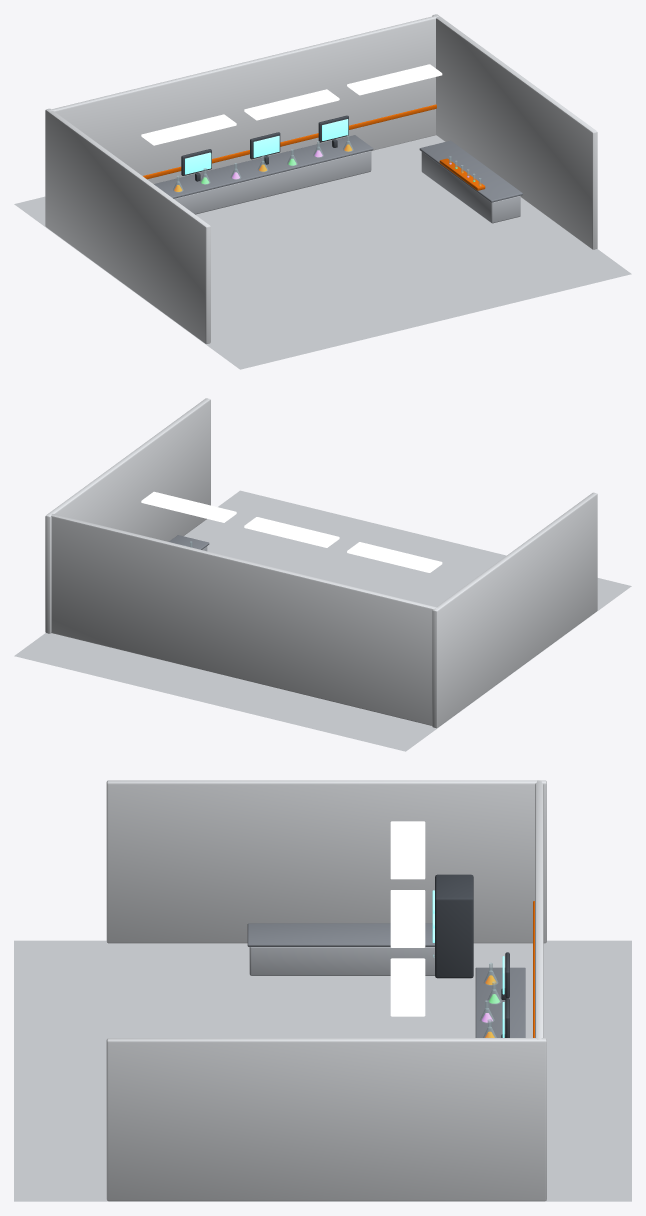
Rendered from loc_lab.glb.
3 renders of one model, top to bottom at view 1: azimuth 30°, elevation 25°; view 2: azimuth 150°, elevation 25°; view 3: azimuth 270°, elevation 25°, orthographic. The views are drawn at different scales.
Parts seen in each view (by area): view 1: La_Floor, La_WallBack, La_WallSideL, La_WallSideR, La_BenchB_Body, La_BenchB_Top, La_BenchR_Body, La_BenchR_Top, La_Light0, La_Light1, La_Light2, La_Stripe; view 2: La_WallBack, La_Floor, La_WallSideL, La_WallSideR, La_Light1, La_Light0, La_Light2; view 3: La_Floor, La_WallSideR, La_WallSideL, La_BenchL_Body, La_RackBody, La_BenchL_Top, La_BenchB_Top, La_WallBack, La_Light0, La_Light2, La_Light1.
Boxes of the visible parts, x1,y1,x2,y2 form: La_Floor: (14,135,631,369); La_WallBack: (48,15,438,183); La_WallSideL: (45,108,210,343); La_WallSideR: (432,14,597,249); La_BenchB_Body: (174,151,371,214); La_BenchB_Top: (154,135,373,198); La_BenchR_Body: (421,152,520,223); La_BenchR_Top: (419,140,522,202); La_Light0: (141,114,236,145); La_Light1: (244,89,339,120); La_Light2: (347,64,442,95); La_Stripe: (143,104,436,179); La_WallBack: (51,514,438,725); La_Floor: (14,490,631,751); La_WallSideL: (432,492,597,728); La_WallSideR: (45,398,210,633); La_Light1: (244,517,339,547); La_Light0: (347,542,442,572); La_Light2: (141,491,236,522); La_Floor: (14,940,631,1201); La_WallSideR: (106,1038,546,1201); La_WallSideL: (106,780,546,943); La_BenchL_Body: (249,947,434,975); La_RackBody: (435,874,473,978); La_BenchL_Top: (247,923,434,946); La_BenchB_Top: (475,967,525,1037); La_WallBack: (535,780,543,1039); La_Light0: (390,821,425,879); La_Light2: (390,958,425,1016); La_Light1: (390,890,425,947).
Size of the model in its own units: 16.02 by 4.6 by 16.
